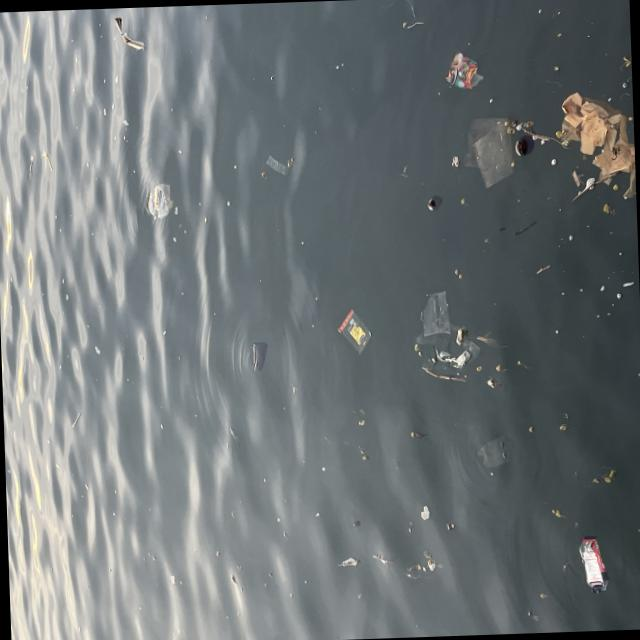plastic bottle: (554, 90, 636, 202), (460, 114, 512, 190), (414, 330, 477, 374), (444, 51, 489, 88), (578, 537, 606, 591), (420, 286, 450, 334), (336, 309, 371, 350), (145, 182, 174, 216), (479, 437, 508, 466), (263, 154, 292, 173)
unknow: (250, 338, 268, 369)
